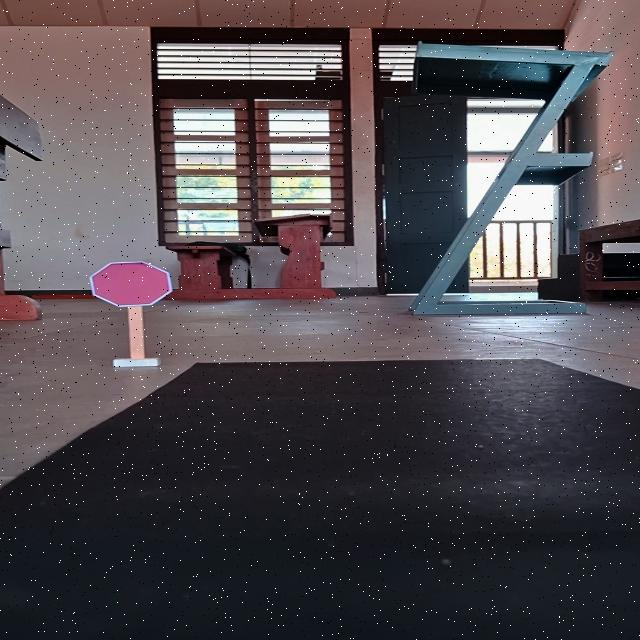Stop: (84, 259, 174, 308)
